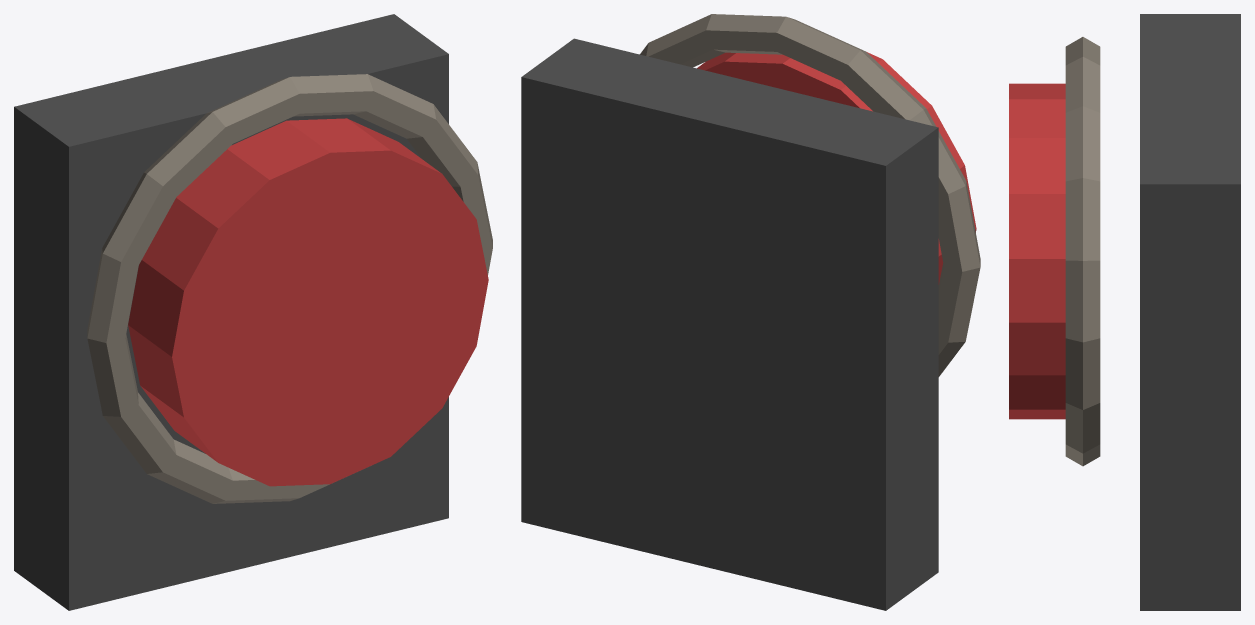
The model's file is PaintingButton.fbx.
The picture shows the model from 3 angles, left to right: view 1: azimuth 30°, elevation 25°; view 2: azimuth 150°, elevation 25°; view 3: azimuth 270°, elevation 25°; orthographic projection. The views are drawn at different scales.
Visible parts, largest first — view 1: Button_Cap, Button_Plate, Button_Rim; view 2: Button_Plate, Button_Rim, Button_Cap; view 3: Button_Plate, Button_Cap, Button_Rim.
Boxes of the visible parts, x1,y1,x2,y2 form: Button_Cap: (128, 118, 488, 486); Button_Plate: (14, 14, 448, 610); Button_Rim: (87, 74, 492, 503); Button_Plate: (521, 38, 938, 610); Button_Rim: (640, 14, 980, 376); Button_Cap: (697, 52, 976, 284); Button_Plate: (1140, 14, 1240, 610); Button_Cap: (1009, 83, 1065, 419); Button_Rim: (1065, 37, 1100, 466).
Size of the model in its own units: 0.064 by 0.077 by 0.0345.
